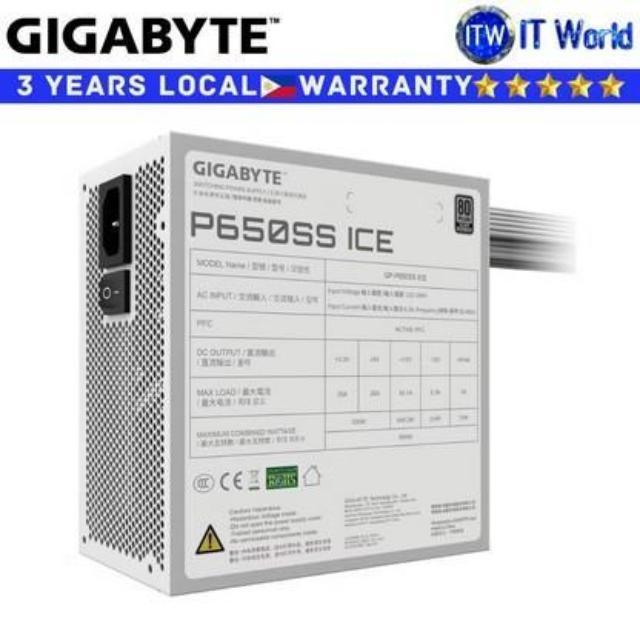PSU: (58, 115, 502, 593)
